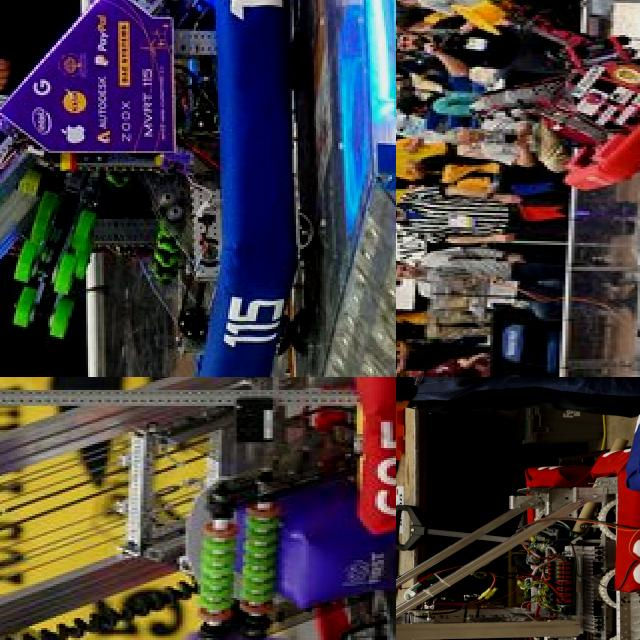FRC-Robots: (0, 0, 326, 377), (0, 377, 396, 640), (396, 420, 640, 640), (396, 17, 640, 191)
